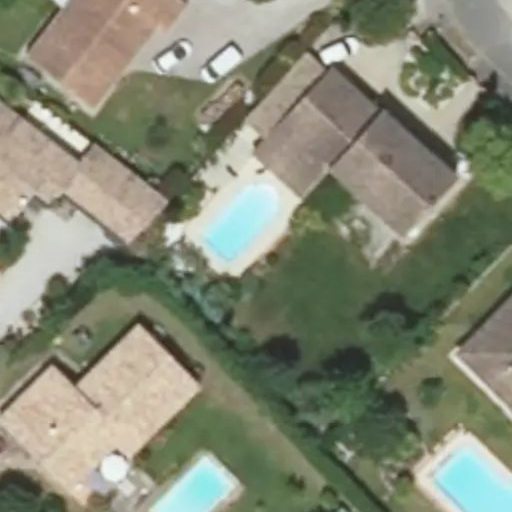pool: (205, 184, 280, 262), (430, 448, 512, 512), (151, 457, 234, 512)
